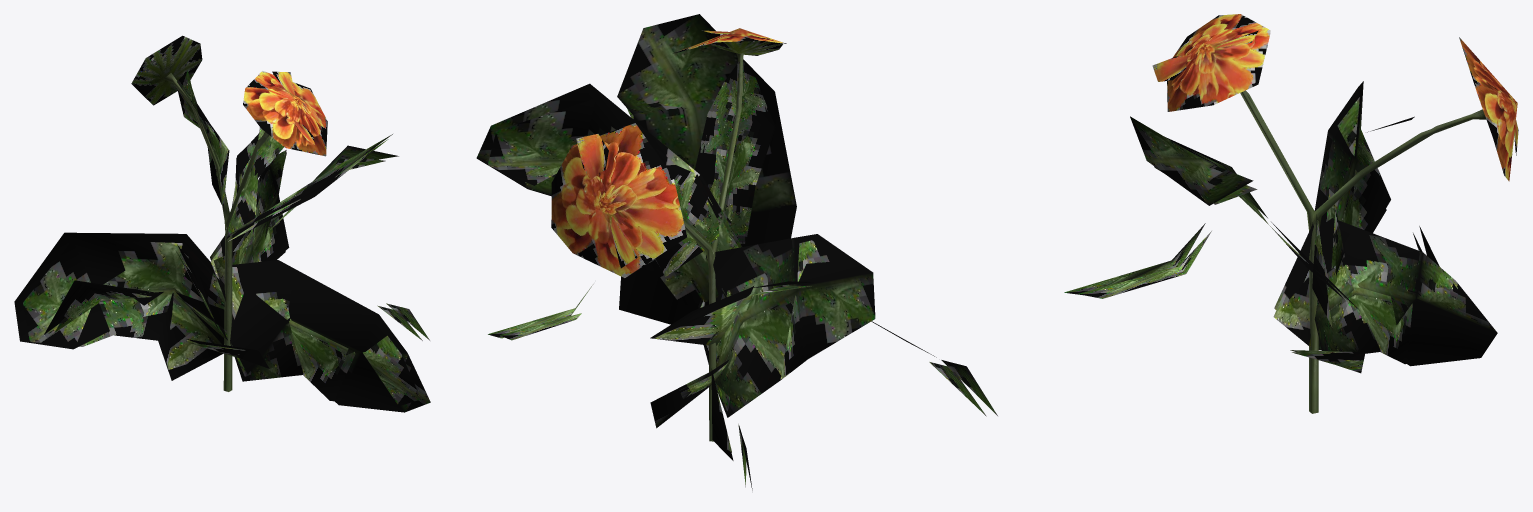
File: Marigold_Desktop-transformed.glb
3 views of the same model, side by side, from view 1: azimuth 30°, elevation 25°; view 2: azimuth 150°, elevation 25°; view 3: azimuth 270°, elevation 25° (orthographic). The views are drawn at different scales.
Visible parts, largest first — view 1: Marigold_Desktop_LOD0; view 2: Marigold_Desktop_LOD0; view 3: Marigold_Desktop_LOD0.
Part boxes in pixels (x1,y1,x2,y2): Marigold_Desktop_LOD0: [14, 35, 430, 412]; Marigold_Desktop_LOD0: [476, 14, 997, 490]; Marigold_Desktop_LOD0: [1064, 14, 1518, 413].
Bounding box in the file's own units: 0.4134 × 0.3323 × 0.3485.
2 materials, 2 textured.
